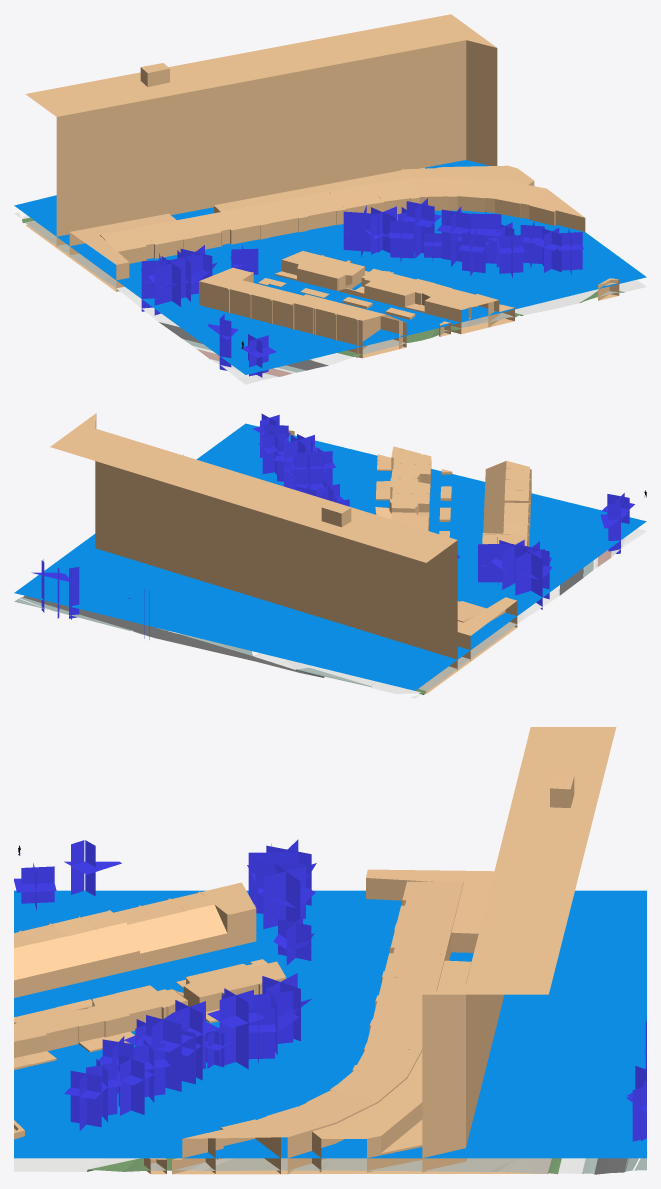
3 renders of one model, top to bottom at view 1: azimuth 30°, elevation 25°; view 2: azimuth 150°, elevation 25°; view 3: azimuth 270°, elevation 25°, orthographic. The views are drawn at different scales.
Parts seen in each view (by area): view 1: Gebouwen, NAP0Plane, Bomen, Voetpaden, Onbegroeid, Erven; view 2: Gebouwen, NAP0Plane, Bomen, Wegen, Voetpaden, Parkeervakken, Onbegroeid; view 3: Gebouwen, NAP0Plane, Bomen, Onbegroeid, Voetpaden, Erven.
Part boxes in pixels (x1,y1,x2,y2): Gebouwen: (25,14,619,358); NAP0Plane: (14,160,646,374); Bomen: (141,198,583,377); Voetpaden: (14,212,646,384); Onbegroeid: (25,221,618,354); Erven: (22,217,624,356); Gebouwen: (50,413,531,694); NAP0Plane: (14,423,646,690); Bomen: (31,413,634,639); Wegen: (23,568,583,677); Voetpaden: (130,529,646,698); Parkeervakken: (14,560,593,687); Onbegroeid: (418,622,517,691); Gebouwen: (14,727,616,1174); NAP0Plane: (14,890,646,1158); Bomen: (14,839,646,1141); Onbegroeid: (145,1158,551,1173); Voetpaden: (14,1158,585,1173); Erven: (87,1158,561,1174).
Size of the model in its own units: 10.05 by 3.54 by 10.
Materials: 11 (1 with a texture image).
